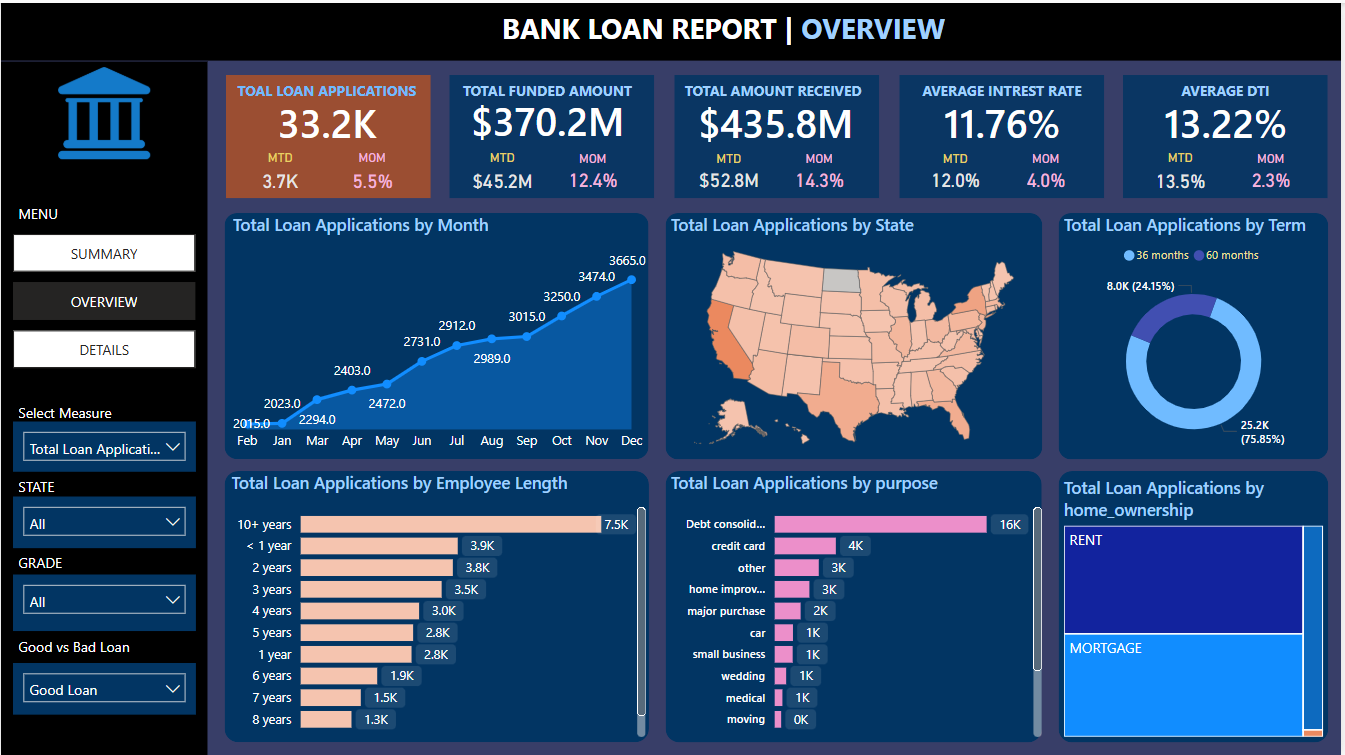

This screenshot's page, from the dashboard's own definition file:
{"tool":"powerbi","page":{"name":"OVERVIEW","canvas":[1280,720],"ordinal":1},"visuals":[{"type":"shape","box":[0,0,1280.4,55],"z":0},{"type":"shape","box":[0,55.7,197.2,664.9],"z":1000},{"type":"textbox","box":[456.5,0,466,55.7],"z":2000},{"type":"shape","box":[214.7,68.4,195.6,117.7],"z":3000},{"type":"textbox","box":[213.1,68.4,195.6,30.2],"z":4000},{"type":"card","fields":{"Values":["bank_loan_data.Total Loan Applications"]},"box":[213.1,85.9,195.6,55.7],"z":5000},{"type":"card","title":"MTD","fields":{"Values":["bank_loan_data.MTD Loan Applications"]},"box":[222.7,140,89.1,46.1],"z":6000},{"type":"card","title":"MOM","fields":{"Values":["bank_loan_data.MOM Loan Applications"]},"box":[311.8,140,84.3,46.1],"z":7000},{"type":"shape","box":[427.9,68.4,195.6,117.7],"z":8000},{"type":"shape","box":[642.6,68.4,195.6,117.7],"z":9000},{"type":"shape","box":[857.3,68.4,195.6,117.7],"z":10000},{"type":"shape","box":[1072.1,68.4,195.6,117.7],"z":11000},{"type":"textbox","box":[424.7,68.4,195.6,30.2],"z":12000},{"type":"card","fields":{"Values":["bank_loan_data.Total Funded Amount"]},"box":[424.7,84.3,195.6,55.7],"z":13000},{"type":"card","title":"MTD","fields":{"Values":["bank_loan_data.MTD Funded Amount"]},"box":[434.2,140,89.1,46.1],"z":14000},{"type":"card","title":"MTD","fields":{"Values":["bank_loan_data.MTD Total Amount Received"]},"box":[650.6,141.6,89.1,41.4],"z":15000},{"type":"card","title":"MTD","fields":{"Values":["bank_loan_data.MTD Avg Intrest Rate"]},"box":[866.9,141.6,89.1,41.4],"z":16000},{"type":"card","title":"MTD","fields":{"Values":["bank_loan_data.MTD Avg DTI"]},"box":[1081.6,140,89.1,46.1],"z":17000},{"type":"card","title":"MOM","fields":{"Values":["bank_loan_data.MOM Funded Amount"]},"box":[523.3,141.6,84.3,41.4],"z":18000},{"type":"card","title":"MOM","fields":{"Values":["bank_loan_data.MOM Total Amount Received"]},"box":[739.6,141.6,84.3,41.4],"z":19000},{"type":"card","title":"MOM","fields":{"Values":["bank_loan_data.MOM Avg Interest Rate"]},"box":[956,141.6,84.3,41.4],"z":20000},{"type":"card","title":"MOM","fields":{"Values":["bank_loan_data.MOM AVG DTI"]},"box":[1170.7,141.6,84.3,41.4],"z":21000},{"type":"card","fields":{"Values":["bank_loan_data.Total Amount Received"]},"box":[641,85.9,195.6,55.7],"z":22000},{"type":"card","fields":{"Values":["bank_loan_data.Avg Intrest Rate"]},"box":[857.3,85.9,195.6,55.7],"z":23000},{"type":"card","fields":{"Values":["bank_loan_data.AVG DTI"]},"box":[1072.1,85.9,195.6,55.7],"z":24000},{"type":"textbox","box":[639.4,68.4,197.2,30.2],"z":25000},{"type":"textbox","box":[857.3,68.4,195.6,30.2],"z":26000},{"type":"textbox","box":[1072.1,68.4,195.6,30.2],"z":27000},{"type":"shape","box":[213.1,200.4,405,235],"z":28000},{"type":"image","box":[27,55.7,143.2,98.6],"z":29000},{"type":"slicer","fields":{"Values":["bank_loan_data.address_state"]},"box":[11.1,470.8,175,49.3],"z":30000},{"type":"slicer","fields":{"Values":["bank_loan_data.grade"]},"box":[11.1,545.6,175,54.1],"z":31000},{"type":"slicer","fields":{"Values":["bank_loan_data.Good Vs Bad Loan"]},"box":[11.1,629.9,175,49.3],"z":32000},{"type":"textbox","box":[11.1,520.1,74.8,38.2],"z":33000},{"type":"textbox","box":[11.1,599.7,120.9,55.7],"z":34000},{"type":"pageNavigator","box":[11.1,221.1,175,130.4],"z":35000},{"type":"textbox","box":[11.1,186.1,175,47.7],"z":36000},{"type":"areaChart","fields":{"Y":["bank_loan_data.Total Loan Applications"],"Category":["Data Table.MONTH"]},"box":[216.3,200.4,404,235.4],"z":37000},{"type":"slicer","fields":{"Values":["Select Measure.Select Measure"]},"box":[11.1,399.2,175,47.7],"z":38000},{"type":"textbox","box":[11.1,377,120.9,33.4],"z":39000},{"type":"textbox","box":[11.1,447,63.6,49.3],"z":40000},{"type":"shape","box":[634.7,200.4,360,235.4],"z":41000},{"type":"shapeMap","fields":{"Value":["bank_loan_data.Total Loan Applications"],"Category":["bank_loan_data.address_state"]},"box":[634.7,200.4,359.5,235.4],"z":42000},{"type":"shape","box":[1010,200.4,257.7,235.4],"z":43000},{"type":"shape","box":[213.1,447,405.6,259.3],"z":44000},{"type":"shape","box":[634.7,447,359.5,259.3],"z":45000},{"type":"shape","box":[1010,447,257.7,259.3],"z":46000},{"type":"donutChart","fields":{"Y":["bank_loan_data.Total Loan Applications"],"Category":["bank_loan_data.term"]},"box":[1010,200.4,257.7,235.4],"z":47000},{"type":"barChart","fields":{"Y":["bank_loan_data.Total Loan Applications"],"Category":["bank_loan_data.emp_length"]},"box":[214.7,447,405.6,259.3],"z":48000},{"type":"barChart","fields":{"Y":["bank_loan_data.Total Loan Applications"],"Category":["bank_loan_data.purpose"]},"box":[634.7,447,364.2,259.3],"z":49000},{"type":"treemap","fields":{"Values":["bank_loan_data.Total Loan Applications"],"Group":["bank_loan_data.home_ownership"]},"box":[1010,451.7,257.7,254.5],"z":50000}]}

Visuals, with their boxes in screenshot pixels (x1, y1, x2, y2), scaled from the page's 1280x720 canvas onto the 1345x755 screenshot:
shape: {"x1": 0, "y1": 0, "x2": 1344, "y2": 58}
shape: {"x1": 0, "y1": 58, "x2": 207, "y2": 754}
textbox: {"x1": 480, "y1": 0, "x2": 969, "y2": 58}
shape: {"x1": 226, "y1": 72, "x2": 431, "y2": 195}
textbox: {"x1": 224, "y1": 72, "x2": 429, "y2": 103}
card - bank_loan_data.Total Loan Applications: {"x1": 224, "y1": 90, "x2": 429, "y2": 148}
"MTD" card: {"x1": 234, "y1": 147, "x2": 328, "y2": 195}
"MOM" card: {"x1": 328, "y1": 147, "x2": 416, "y2": 195}
shape: {"x1": 450, "y1": 72, "x2": 655, "y2": 195}
shape: {"x1": 675, "y1": 72, "x2": 881, "y2": 195}
shape: {"x1": 901, "y1": 72, "x2": 1106, "y2": 195}
shape: {"x1": 1127, "y1": 72, "x2": 1332, "y2": 195}
textbox: {"x1": 446, "y1": 72, "x2": 652, "y2": 103}
card - bank_loan_data.Total Funded Amount: {"x1": 446, "y1": 88, "x2": 652, "y2": 147}
"MTD" card: {"x1": 456, "y1": 147, "x2": 550, "y2": 195}
"MTD" card: {"x1": 684, "y1": 148, "x2": 777, "y2": 192}
"MTD" card: {"x1": 911, "y1": 148, "x2": 1005, "y2": 192}
"MTD" card: {"x1": 1137, "y1": 147, "x2": 1230, "y2": 195}
"MOM" card: {"x1": 550, "y1": 148, "x2": 638, "y2": 192}
"MOM" card: {"x1": 777, "y1": 148, "x2": 866, "y2": 192}
"MOM" card: {"x1": 1005, "y1": 148, "x2": 1093, "y2": 192}
"MOM" card: {"x1": 1230, "y1": 148, "x2": 1319, "y2": 192}
card - bank_loan_data.Total Amount Received: {"x1": 674, "y1": 90, "x2": 879, "y2": 148}
card - bank_loan_data.Avg Intrest Rate: {"x1": 901, "y1": 90, "x2": 1106, "y2": 148}
card - bank_loan_data.AVG DTI: {"x1": 1127, "y1": 90, "x2": 1332, "y2": 148}
textbox: {"x1": 672, "y1": 72, "x2": 879, "y2": 103}
textbox: {"x1": 901, "y1": 72, "x2": 1106, "y2": 103}
textbox: {"x1": 1127, "y1": 72, "x2": 1332, "y2": 103}
shape: {"x1": 224, "y1": 210, "x2": 649, "y2": 457}
image: {"x1": 28, "y1": 58, "x2": 179, "y2": 162}
slicer - bank_loan_data.address_state: {"x1": 12, "y1": 494, "x2": 196, "y2": 545}
slicer - bank_loan_data.grade: {"x1": 12, "y1": 572, "x2": 196, "y2": 629}
slicer - bank_loan_data.Good Vs Bad Loan: {"x1": 12, "y1": 661, "x2": 196, "y2": 712}
textbox: {"x1": 12, "y1": 545, "x2": 90, "y2": 585}
textbox: {"x1": 12, "y1": 629, "x2": 139, "y2": 687}
pageNavigator: {"x1": 12, "y1": 232, "x2": 196, "y2": 369}
textbox: {"x1": 12, "y1": 195, "x2": 196, "y2": 245}
areaChart - bank_loan_data.Total Loan Applications x Data Table.MONTH: {"x1": 227, "y1": 210, "x2": 652, "y2": 457}
slicer - Select Measure.Select Measure: {"x1": 12, "y1": 419, "x2": 196, "y2": 469}
textbox: {"x1": 12, "y1": 395, "x2": 139, "y2": 430}
textbox: {"x1": 12, "y1": 469, "x2": 78, "y2": 520}
shape: {"x1": 667, "y1": 210, "x2": 1045, "y2": 457}
shapeMap - bank_loan_data.Total Loan Applications x bank_loan_data.address_state: {"x1": 667, "y1": 210, "x2": 1045, "y2": 457}
shape: {"x1": 1061, "y1": 210, "x2": 1332, "y2": 457}
shape: {"x1": 224, "y1": 469, "x2": 650, "y2": 741}
shape: {"x1": 667, "y1": 469, "x2": 1045, "y2": 741}
shape: {"x1": 1061, "y1": 469, "x2": 1332, "y2": 741}
donutChart - bank_loan_data.Total Loan Applications x bank_loan_data.term: {"x1": 1061, "y1": 210, "x2": 1332, "y2": 457}
barChart - bank_loan_data.Total Loan Applications x bank_loan_data.emp_length: {"x1": 226, "y1": 469, "x2": 652, "y2": 741}
barChart - bank_loan_data.Total Loan Applications x bank_loan_data.purpose: {"x1": 667, "y1": 469, "x2": 1050, "y2": 741}
treemap - bank_loan_data.Total Loan Applications x bank_loan_data.home_ownership: {"x1": 1061, "y1": 474, "x2": 1332, "y2": 741}
